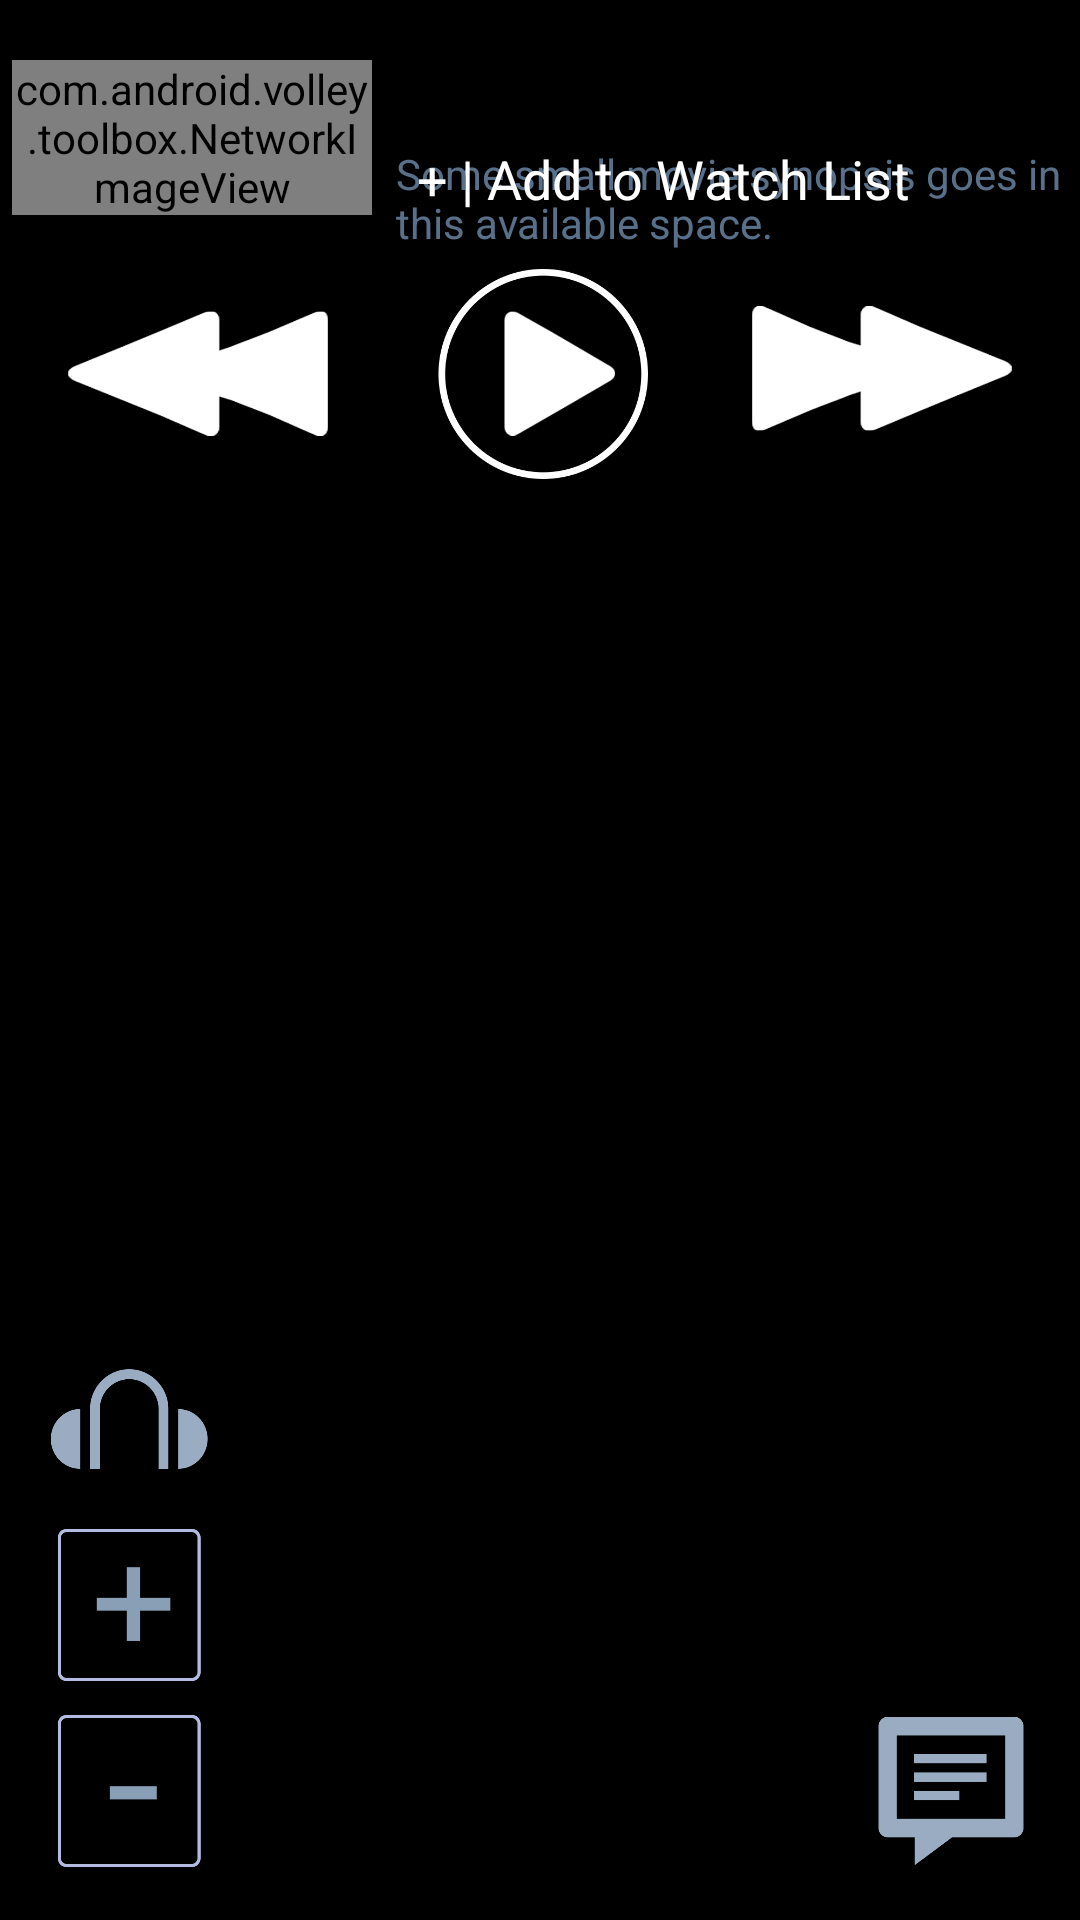

Icon bounding boxes for this 1080px×1920px phone screenshot, format (x1, y1, x2, y2):
earphones: (51, 1369, 208, 1469)
fastforward: (752, 306, 1012, 431)
minus: (58, 1715, 201, 1867)
play: (438, 269, 648, 479)
plus: (58, 1529, 201, 1681)
rewind: (68, 311, 328, 436)
